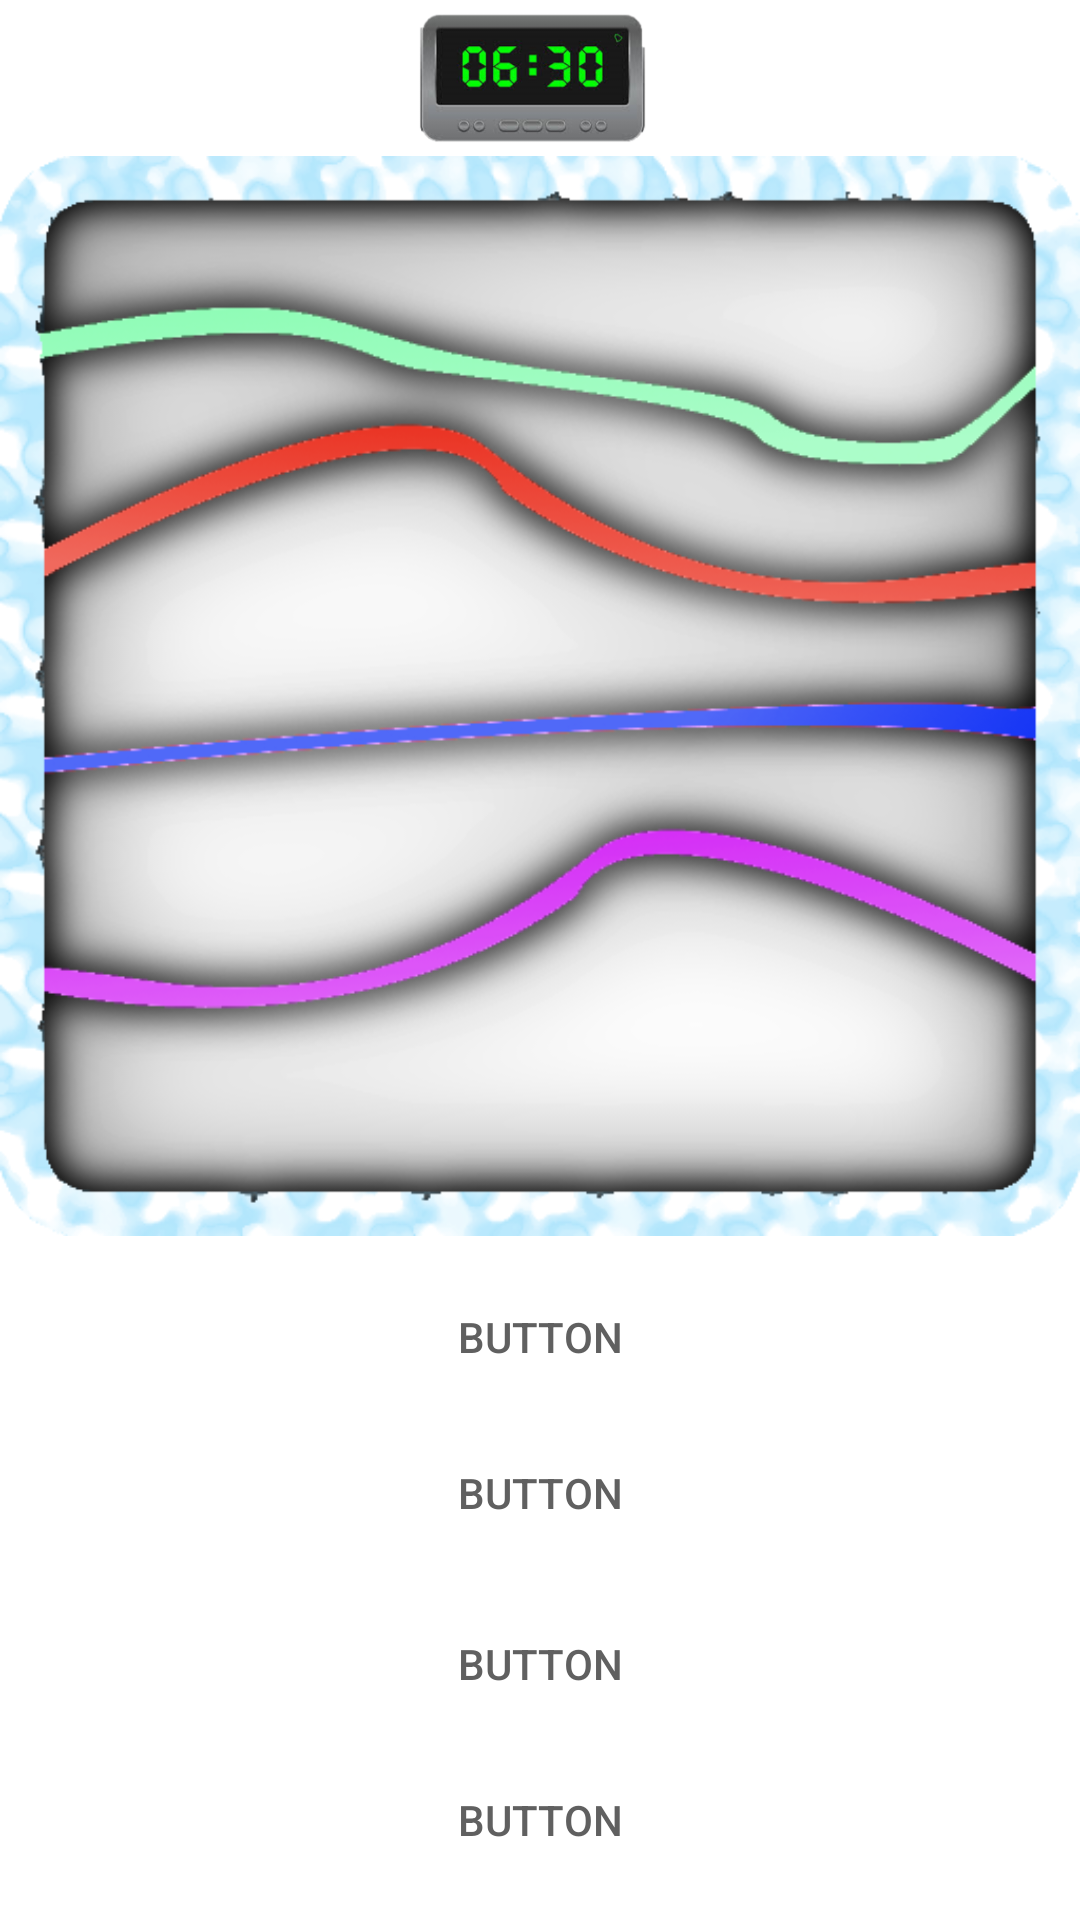

Icons on this 1080*1920 Android screen, each with its box as box=[x1, y1, x2, y2]:
horl: box=[420, 15, 645, 142]
